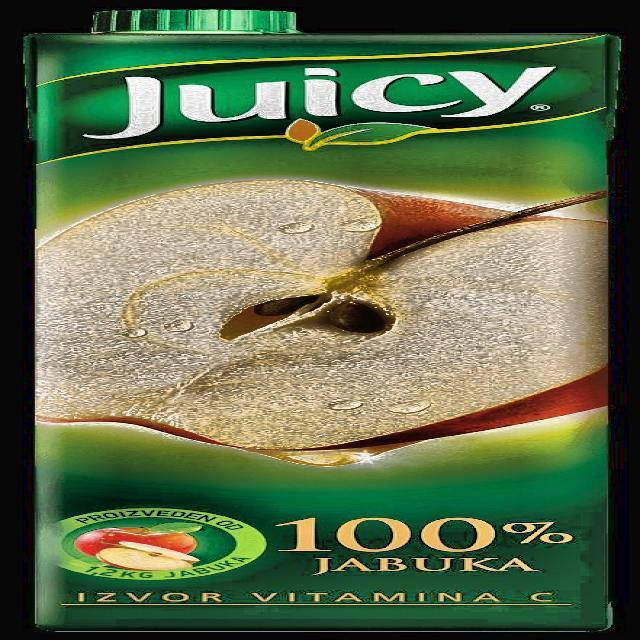cardboard: (28, 8, 616, 632)
